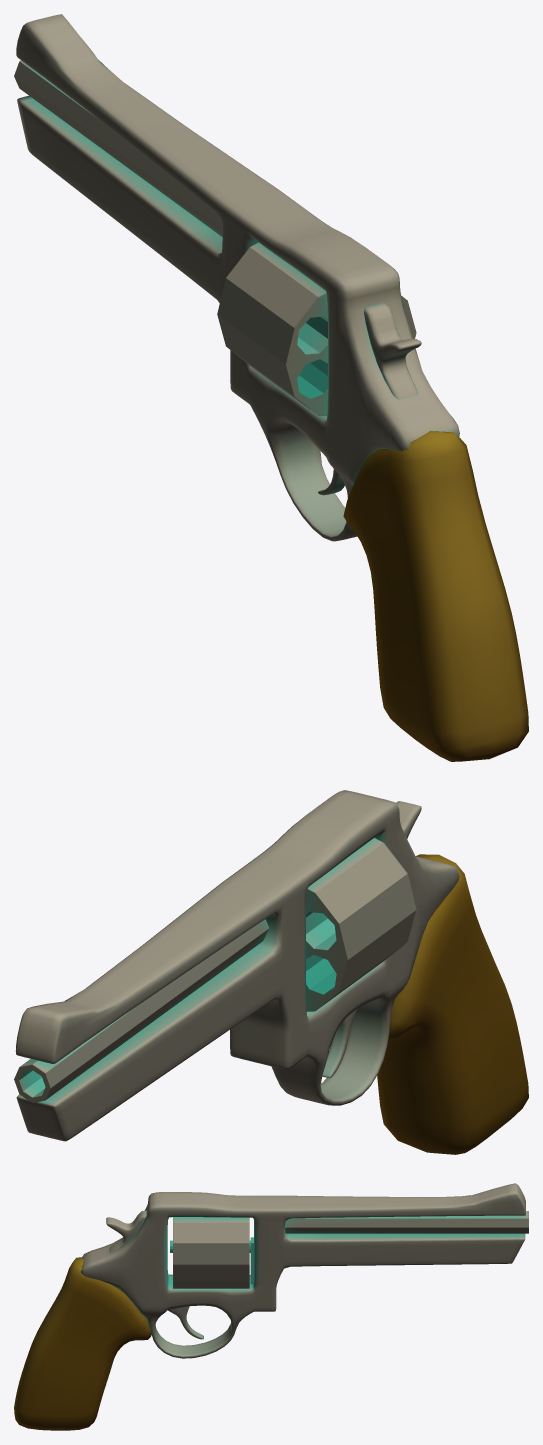
File: DEF_revolver.fbx
3 renders of one model, top to bottom at view 1: azimuth 30°, elevation 25°; view 2: azimuth 150°, elevation 25°; view 3: azimuth 270°, elevation 25°, orthographic. The views are drawn at different scales.
Parts seen in each view (by area): view 1: revolver, tamburo_revolver, percussore_revolver; view 2: revolver, tamburo_revolver, percussore_revolver; view 3: revolver, tamburo_revolver, percussore_revolver.
Part boxes in pixels (x1=…): revolver: x1=14, y1=14, x2=528, y2=761; tamburo_revolver: x1=217, y1=242, x2=416, y2=415; percussore_revolver: x1=364, y1=303, x2=421, y2=399; revolver: x1=14, y1=790, x2=528, y2=1154; tamburo_revolver: x1=306, y1=838, x2=416, y2=1011; percussore_revolver: x1=396, y1=801, x2=421, y2=838; revolver: x1=14, y1=1183, x2=528, y2=1430; tamburo_revolver: x1=170, y1=1217, x2=253, y2=1288; percussore_revolver: x1=106, y1=1210, x2=146, y2=1253.
Bounding box in the file's own units: 75.13 × 234 × 459.
